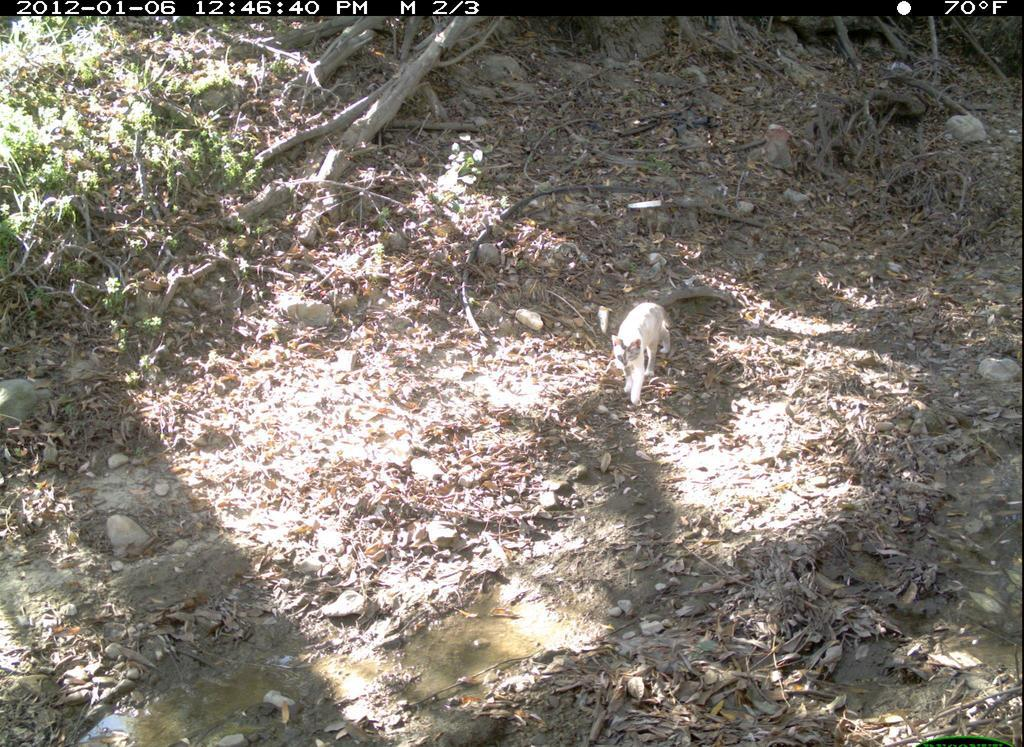cat: (605, 299, 683, 411)
